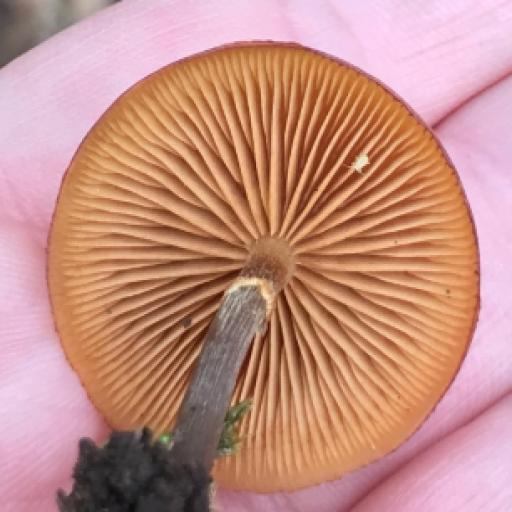mushroom: (32, 27, 497, 503)
